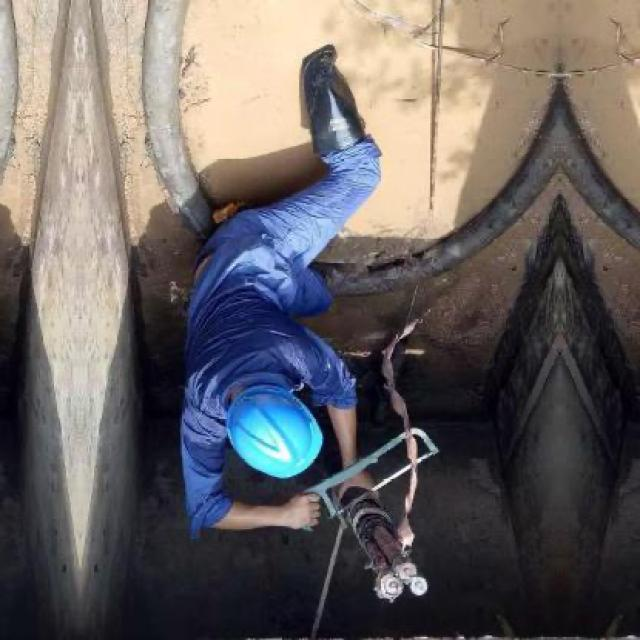con casco: (208, 371, 387, 505)
